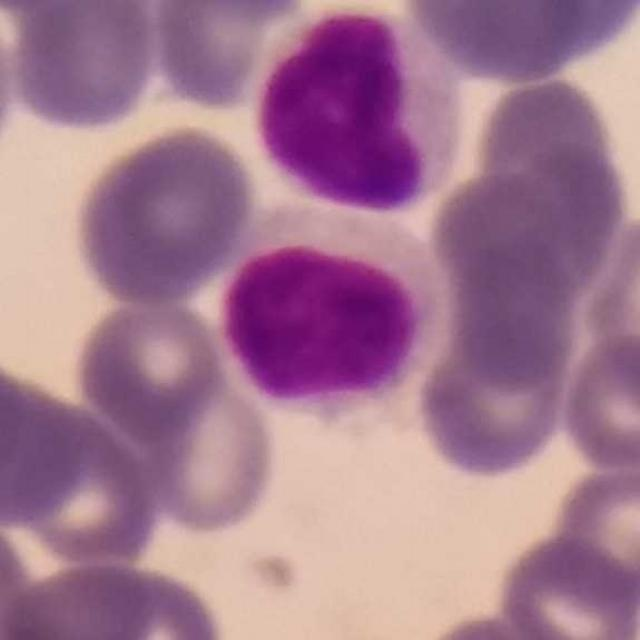Lymphocyte: (199, 202, 463, 426), (246, 2, 464, 218)
RBC: (67, 120, 259, 307), (425, 148, 628, 307), (3, 396, 164, 569), (411, 320, 574, 483), (134, 363, 282, 537), (467, 72, 628, 227), (70, 290, 229, 442), (438, 232, 586, 391), (4, 0, 162, 136), (401, 0, 633, 86), (144, 0, 316, 115), (0, 555, 216, 640), (494, 531, 640, 640), (544, 452, 640, 605), (0, 360, 87, 528), (557, 330, 640, 475), (581, 209, 640, 383), (0, 512, 46, 640), (142, 1, 318, 34), (409, 610, 591, 640), (0, 343, 29, 510)
